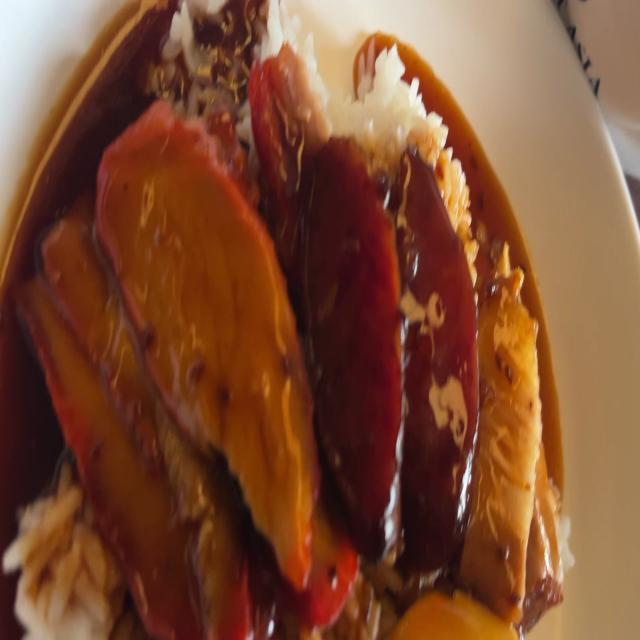01chainese_sausage: (298, 141, 477, 571), (298, 132, 398, 532), (392, 145, 472, 556)
01crispy_pork: (474, 236, 538, 608)
01red_pork: (29, 109, 308, 609), (111, 136, 307, 560), (59, 201, 232, 618), (22, 228, 197, 624), (257, 30, 314, 176)
01red_pork_and_crispy_pork: (3, 24, 563, 636)
01rice: (11, 504, 116, 640), (349, 35, 433, 136)
